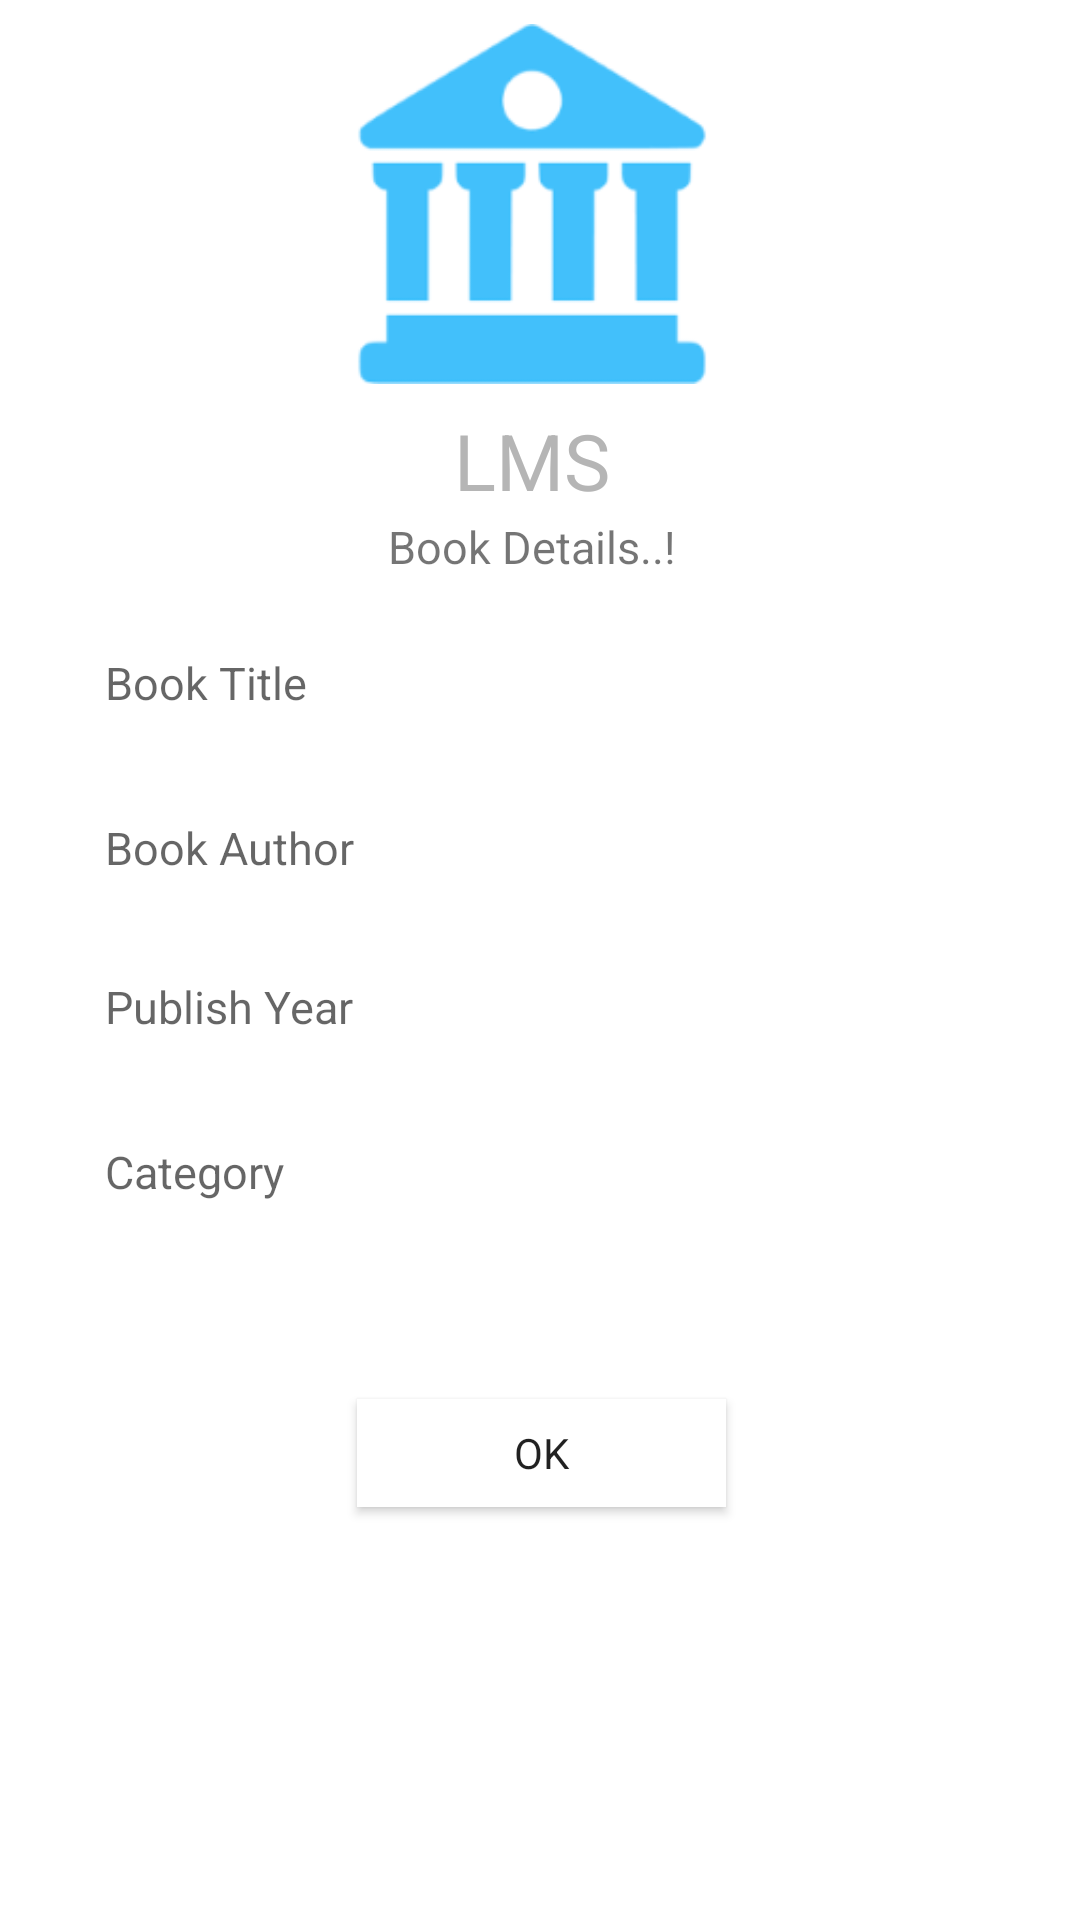

Screen size 1080w x 1920h. Icon name, then its box in pixels as (x1, y1, x2, y2):
appicon: (358, 24, 706, 384)
